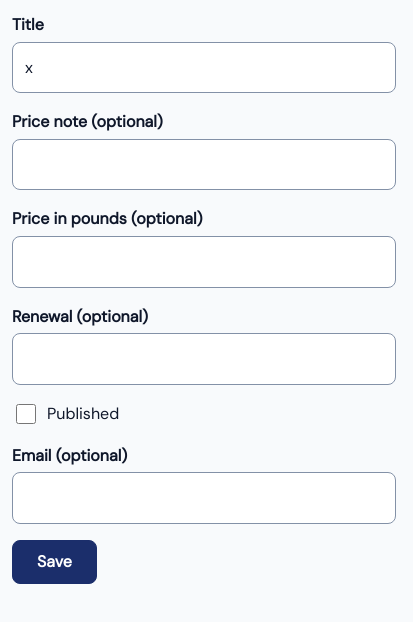
Test case: RecordForm › marks optional fields and says when it saved
This screenshot has width=413, height=622.
Expected: the field labelled "Email (optional)" is shown, [12,472,396,524]
Click the button "Save" at (54, 562), box [12,540,97,584]
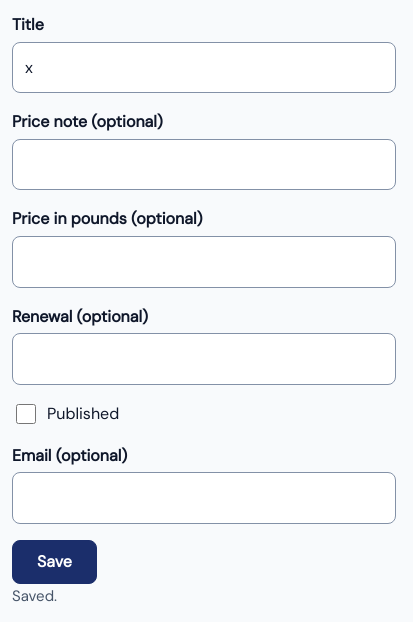
Expected: the text "Saved." is shown, [12,586,57,606]
